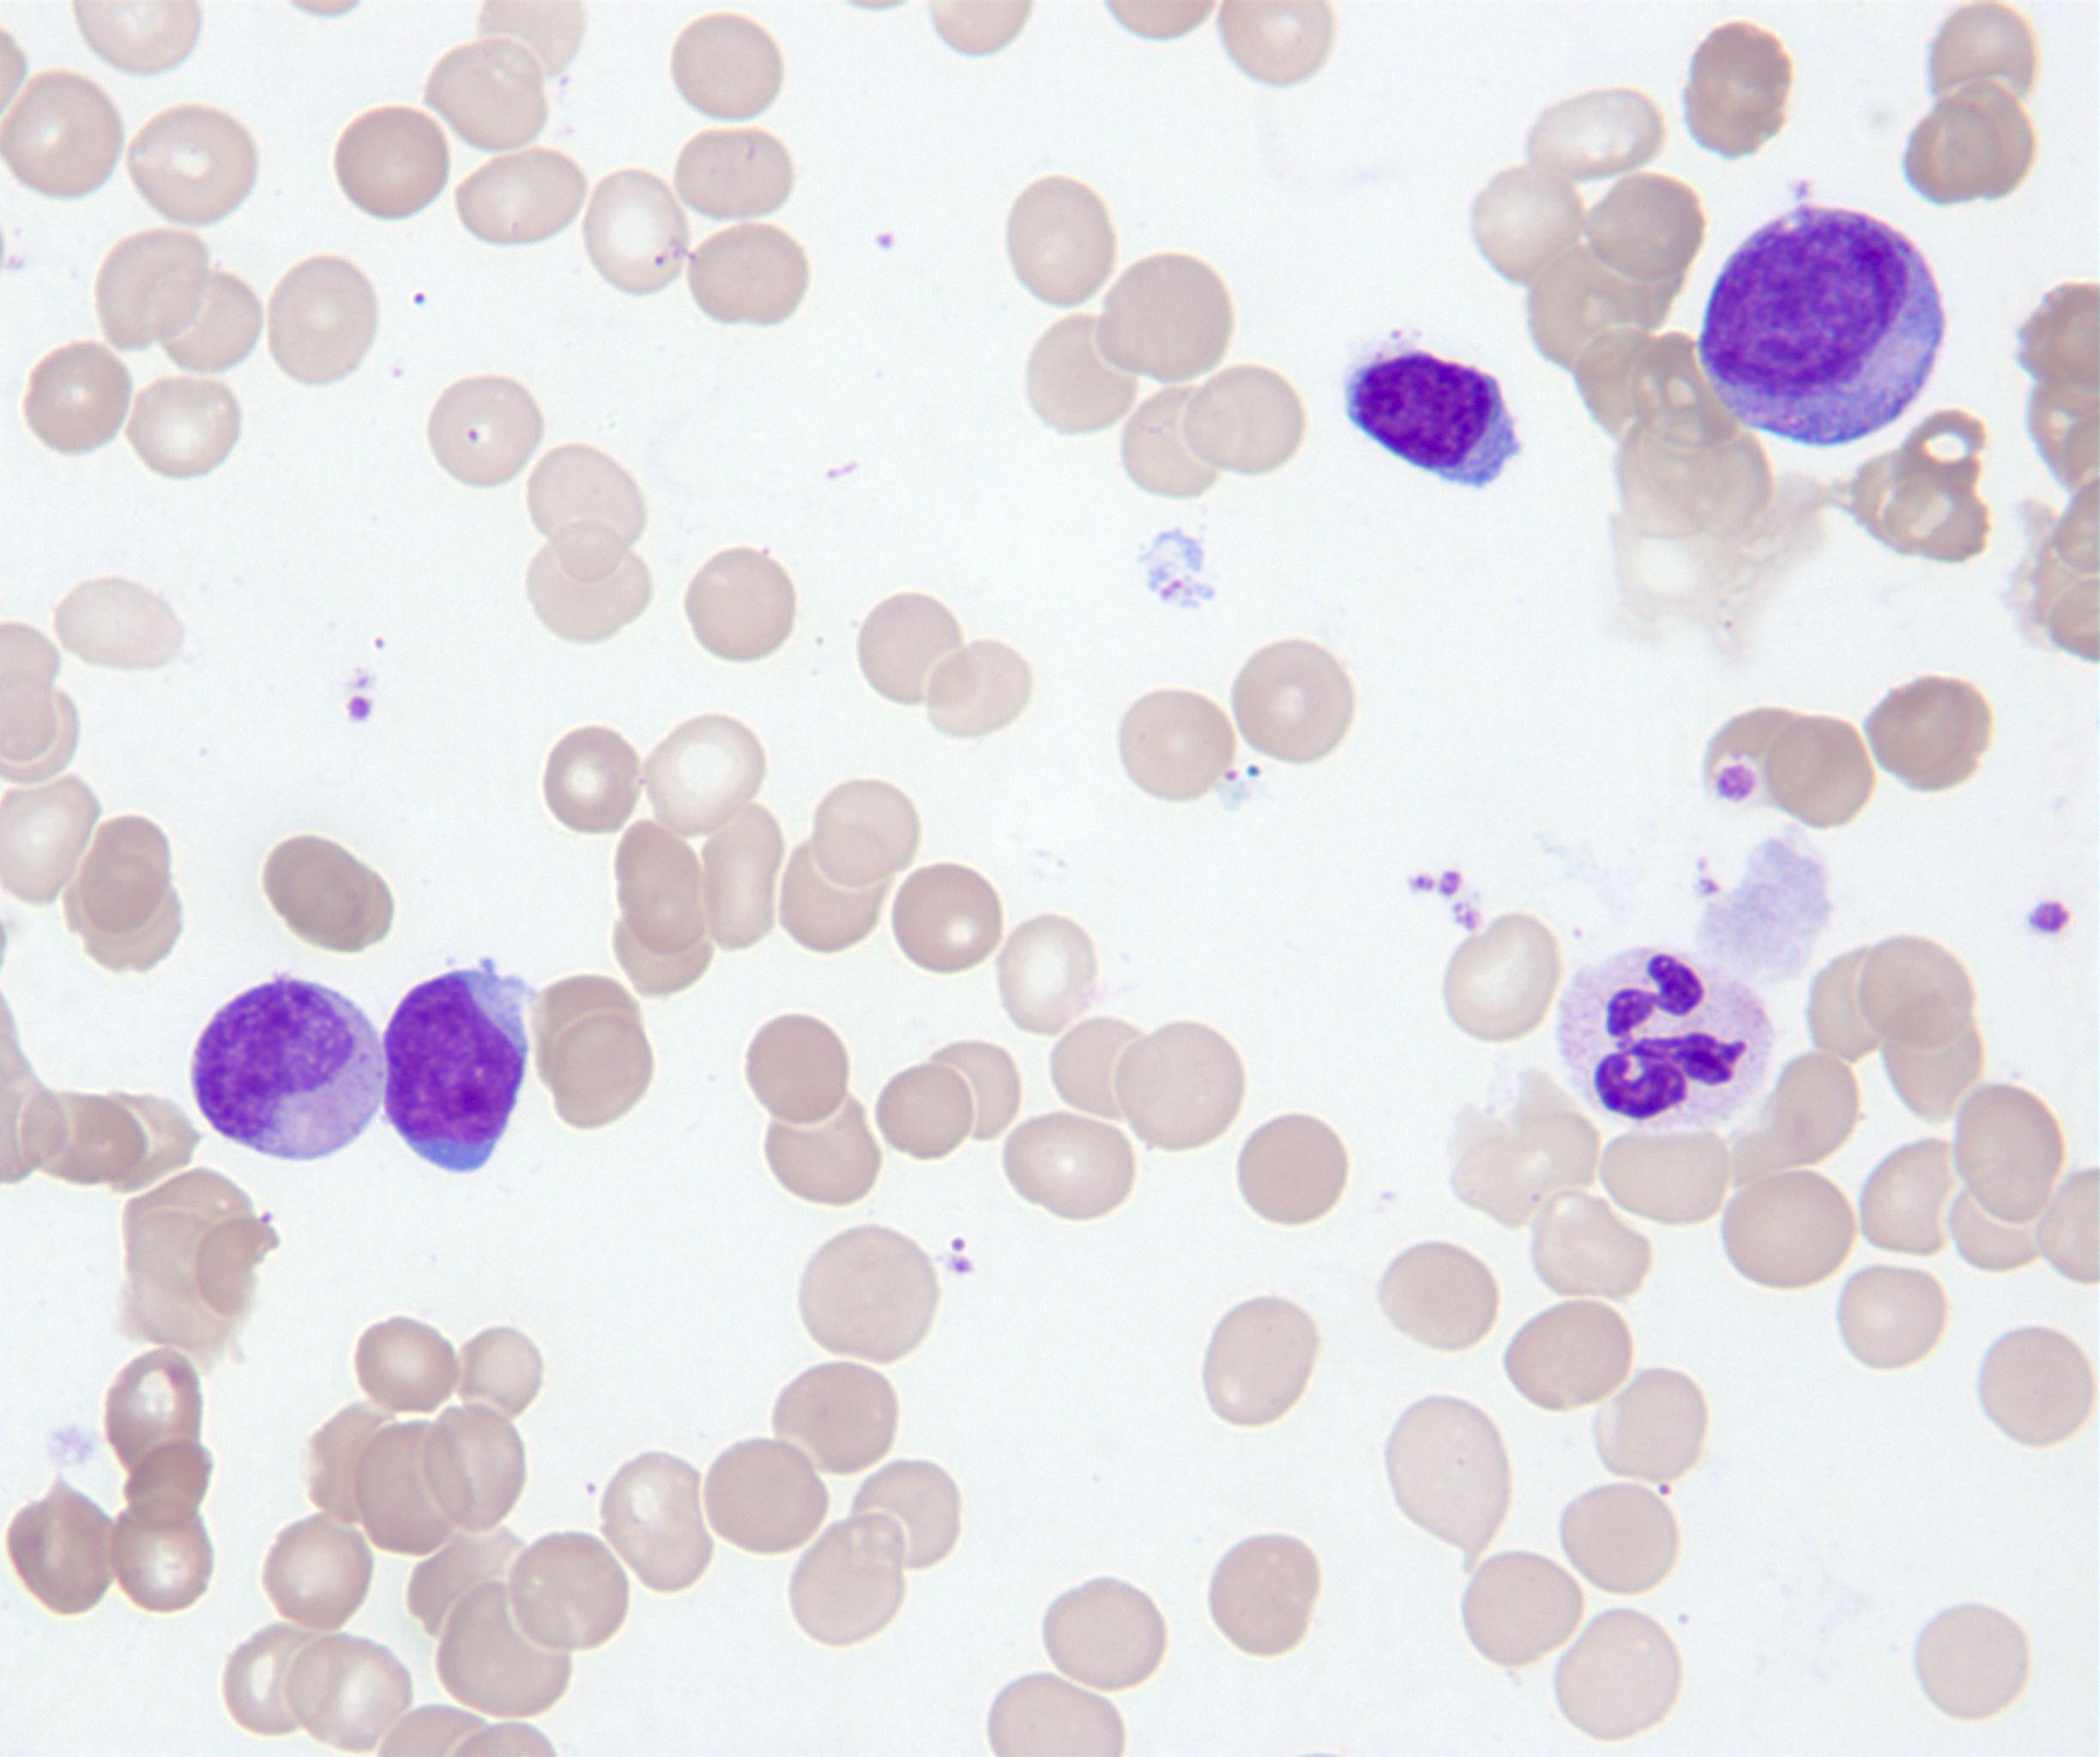3: (1699, 206, 1945, 443)
32: (1347, 332, 1519, 487)
4: (194, 981, 385, 1159)
6: (1559, 947, 1772, 1134)
x: (384, 958, 537, 1172)
